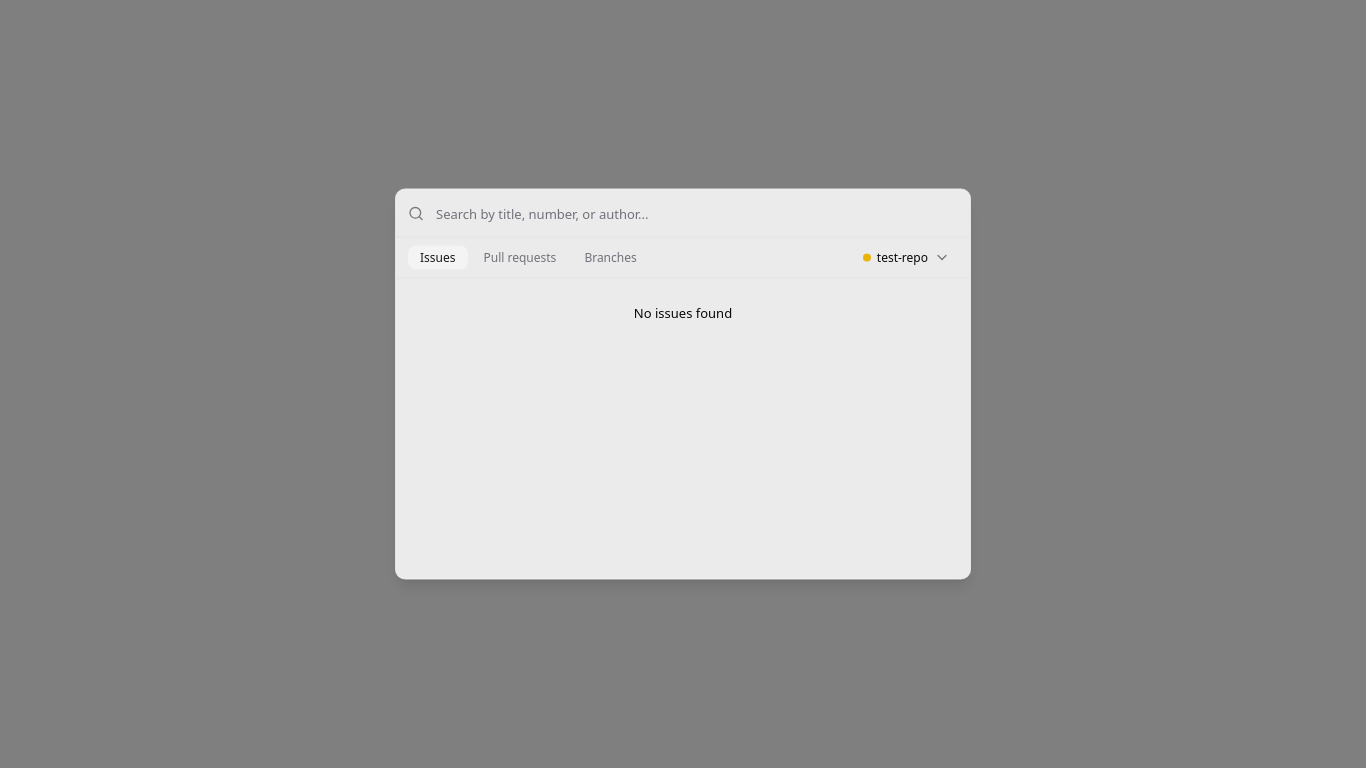
Test case: CreateSessionModal › shows the Branches tab content when clicked
Click the button "Branches" at (611, 258), box x1=572 y1=246 x2=649 y2=270
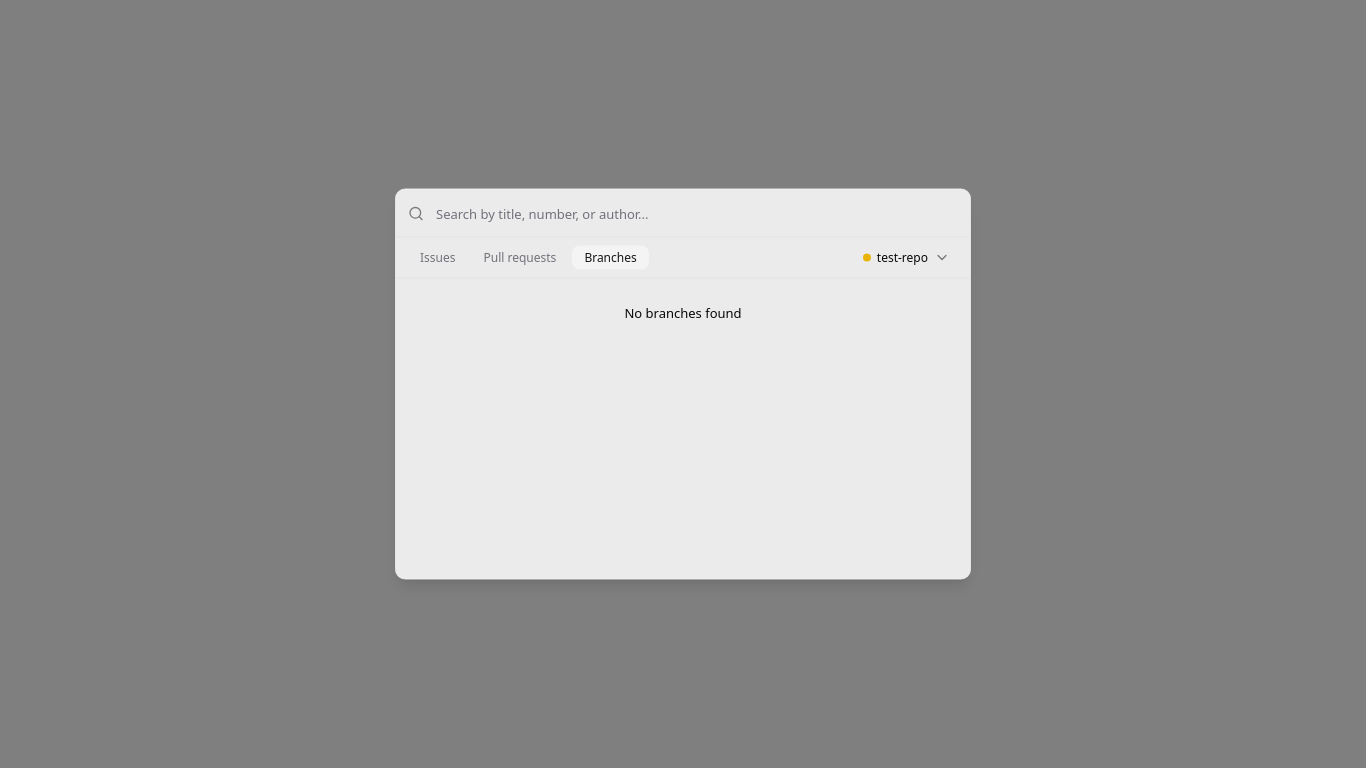
Expected: the text "No branches found" is shown, x1=624 y1=304 x2=742 y2=322
